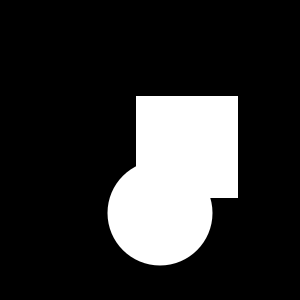circle: (136, 96, 238, 198), (159, 225, 178, 244)
rectangle: (108, 160, 212, 266)
